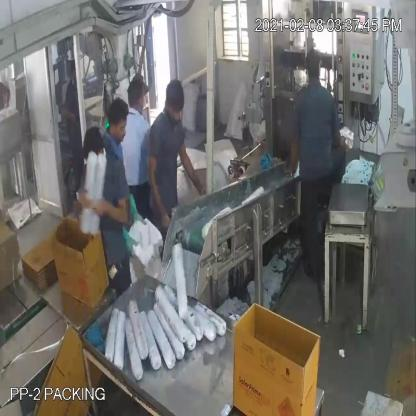no_glove: (145, 148, 174, 232), (179, 140, 209, 207), (94, 192, 136, 234)
